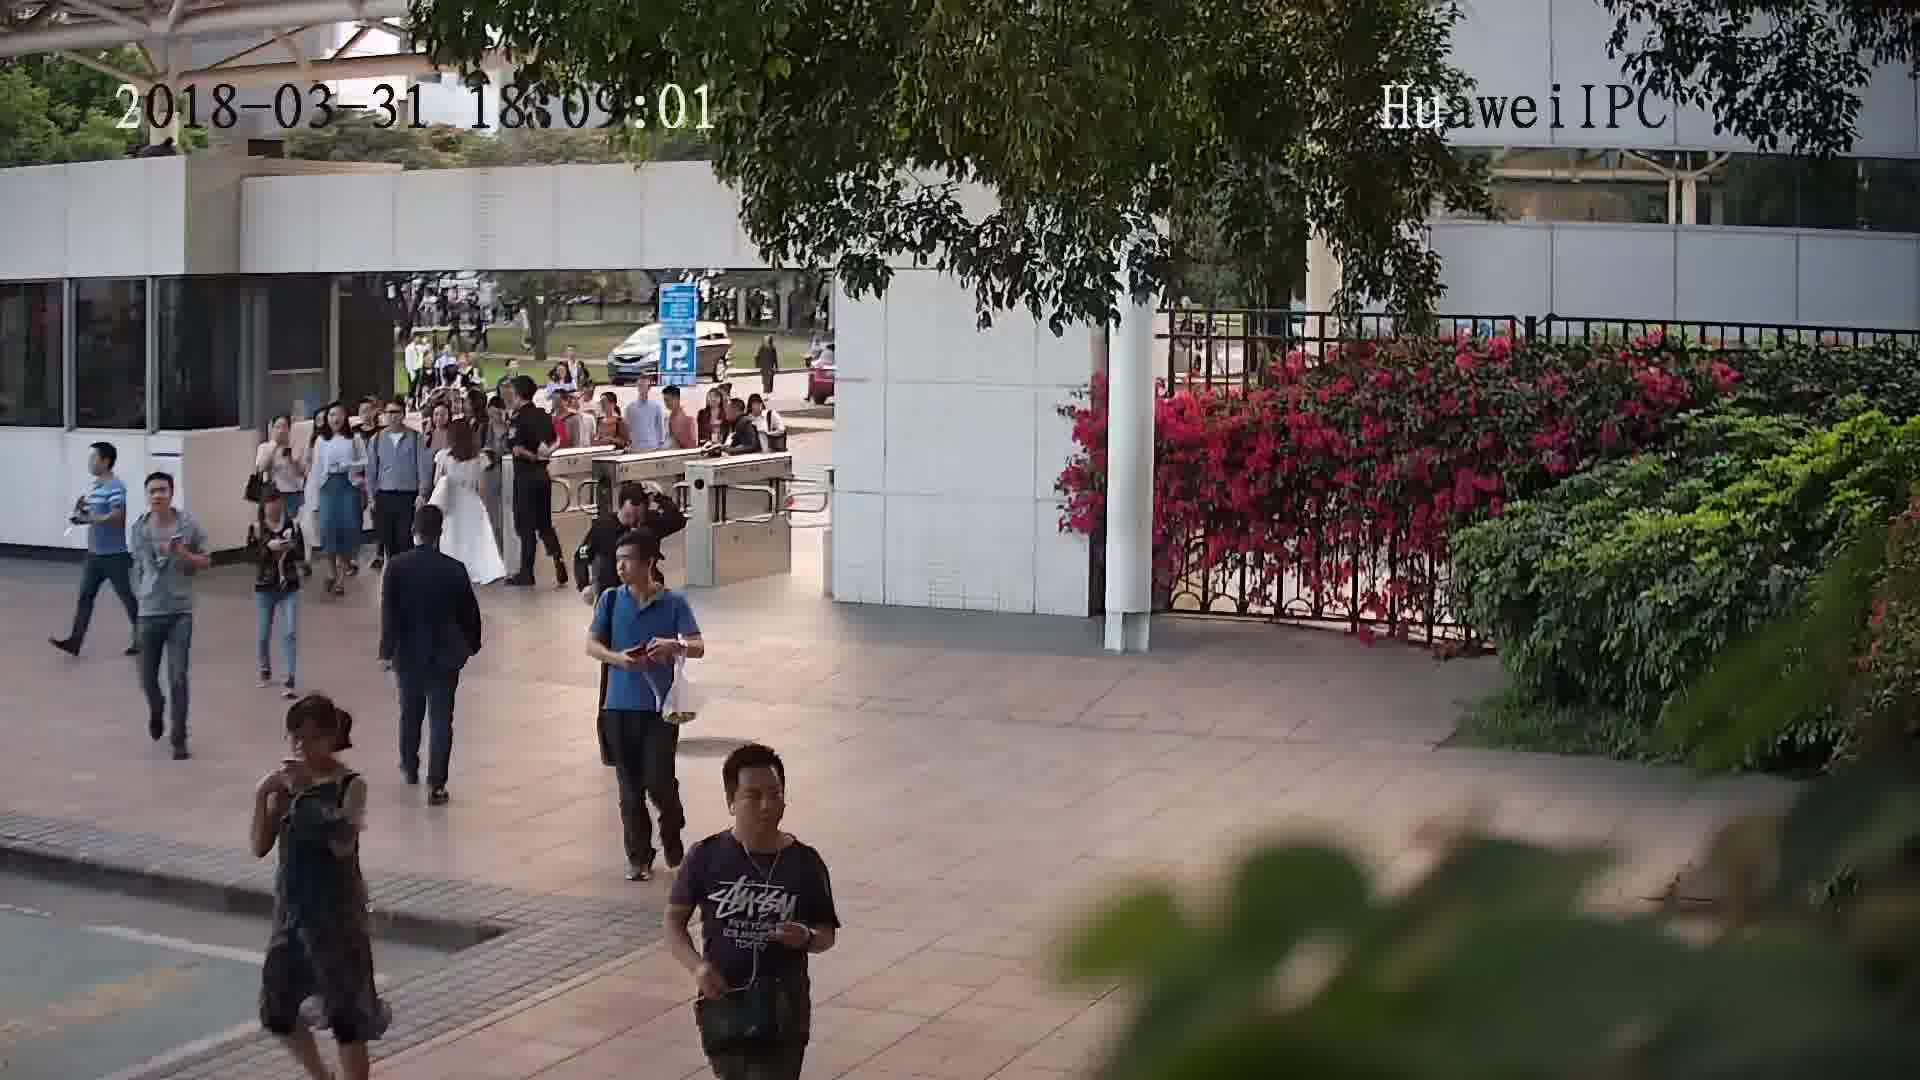face: (728, 770, 792, 834)
person: (685, 741, 826, 889), (269, 692, 368, 796), (596, 531, 689, 620), (385, 499, 471, 590), (131, 468, 206, 541), (592, 481, 655, 541), (248, 480, 302, 541), (76, 436, 129, 499), (435, 417, 490, 469), (367, 395, 419, 450), (306, 400, 355, 453), (506, 372, 551, 428), (252, 406, 301, 456), (622, 362, 665, 414), (548, 384, 593, 430), (546, 389, 590, 435), (660, 378, 697, 425), (421, 400, 456, 444), (722, 390, 757, 436), (429, 363, 472, 398), (597, 392, 631, 431), (693, 390, 733, 424), (546, 358, 581, 386), (412, 348, 441, 383)
